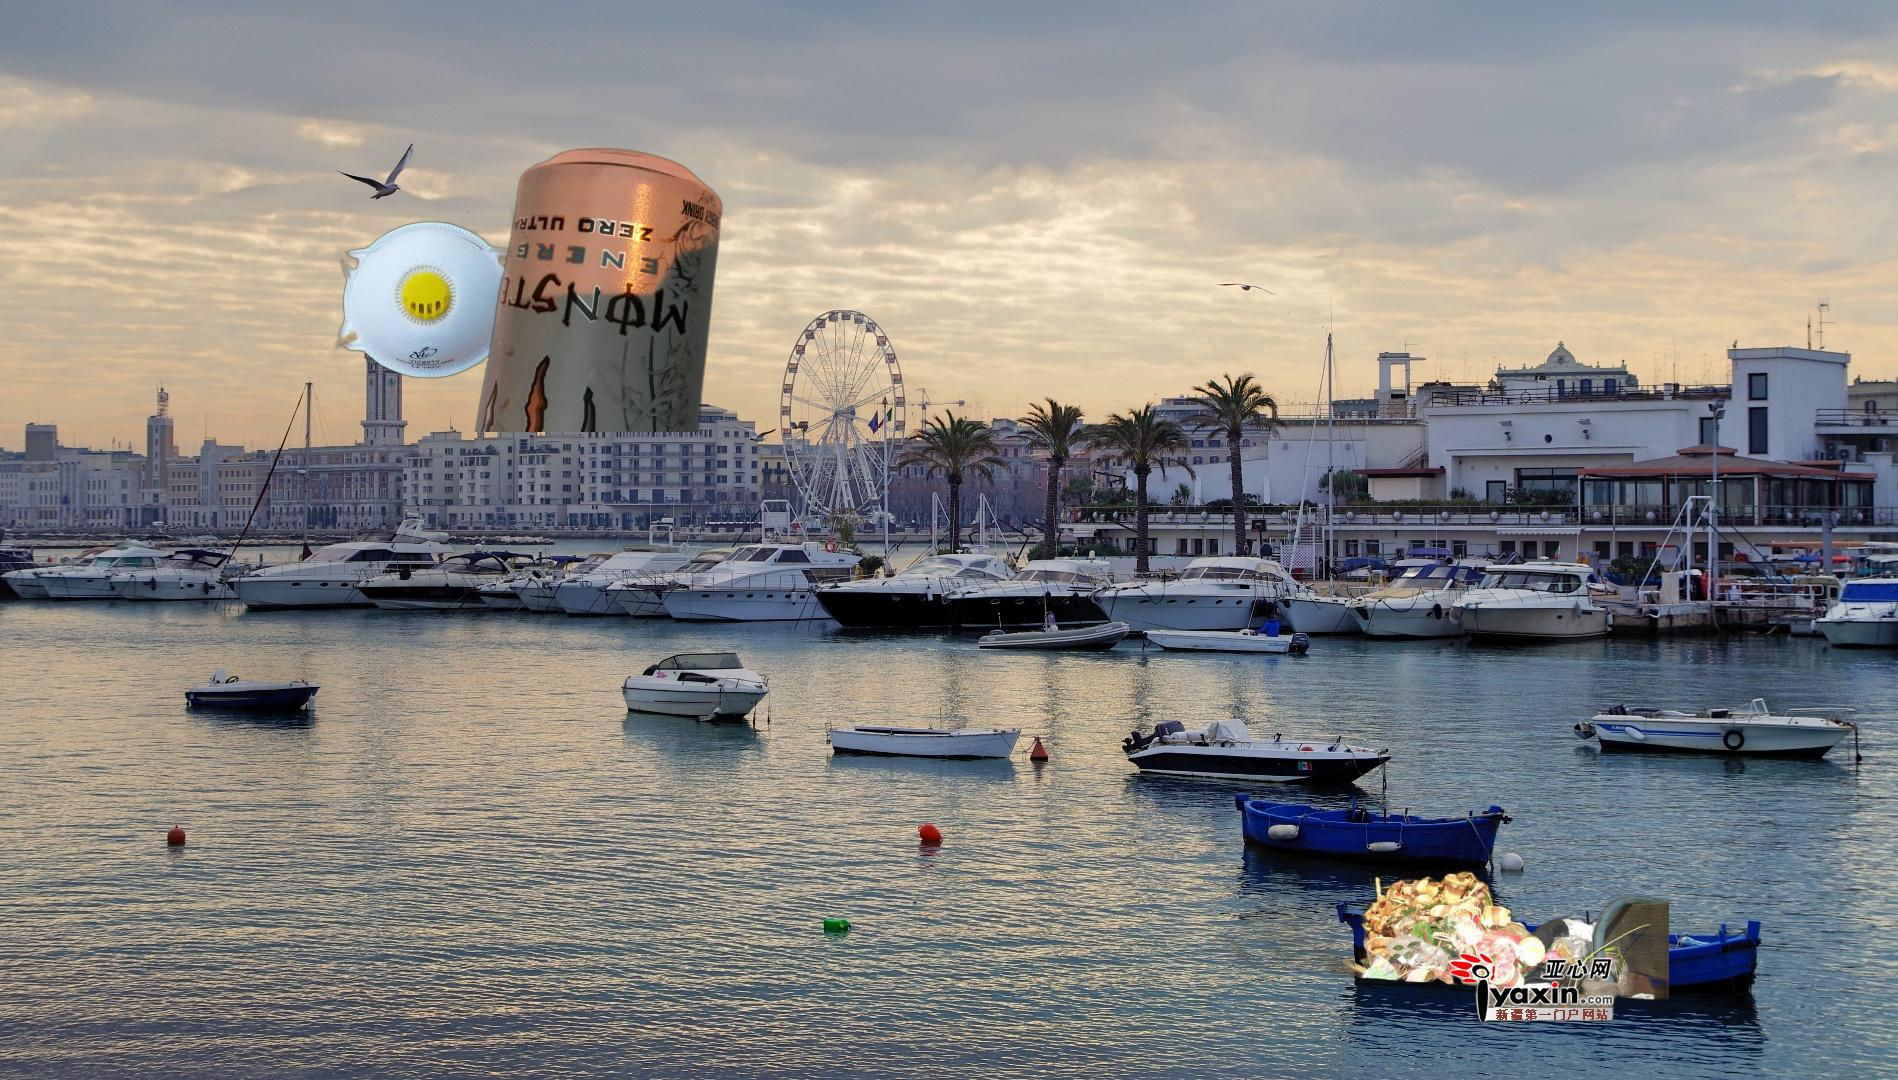biological: (1198, 813, 1669, 1025)
metal-cans: (471, 145, 727, 432), (1821, 470, 1898, 1060)
trash: (328, 205, 561, 399)
